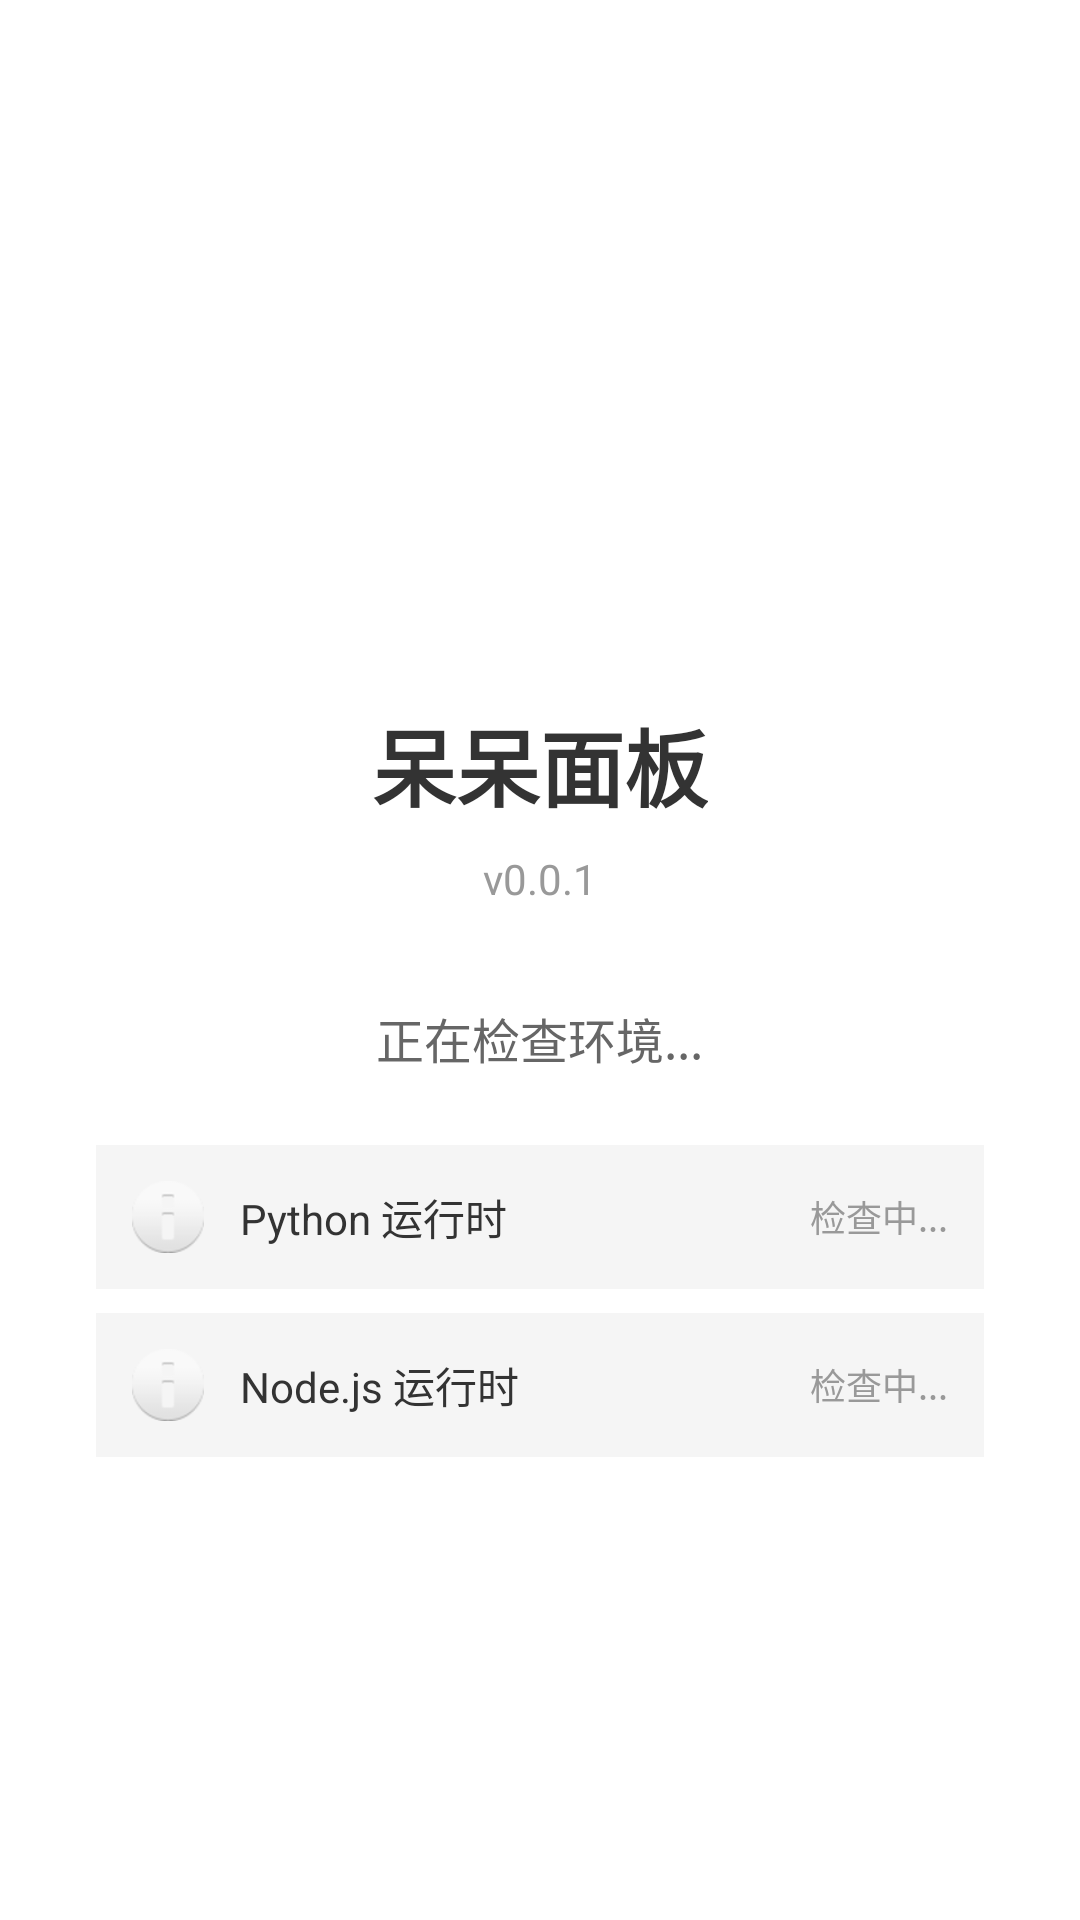

Named icons in this screenshot (1080*1920) and their centers, [x,y]:
info: [168,1223], [168,1391]
